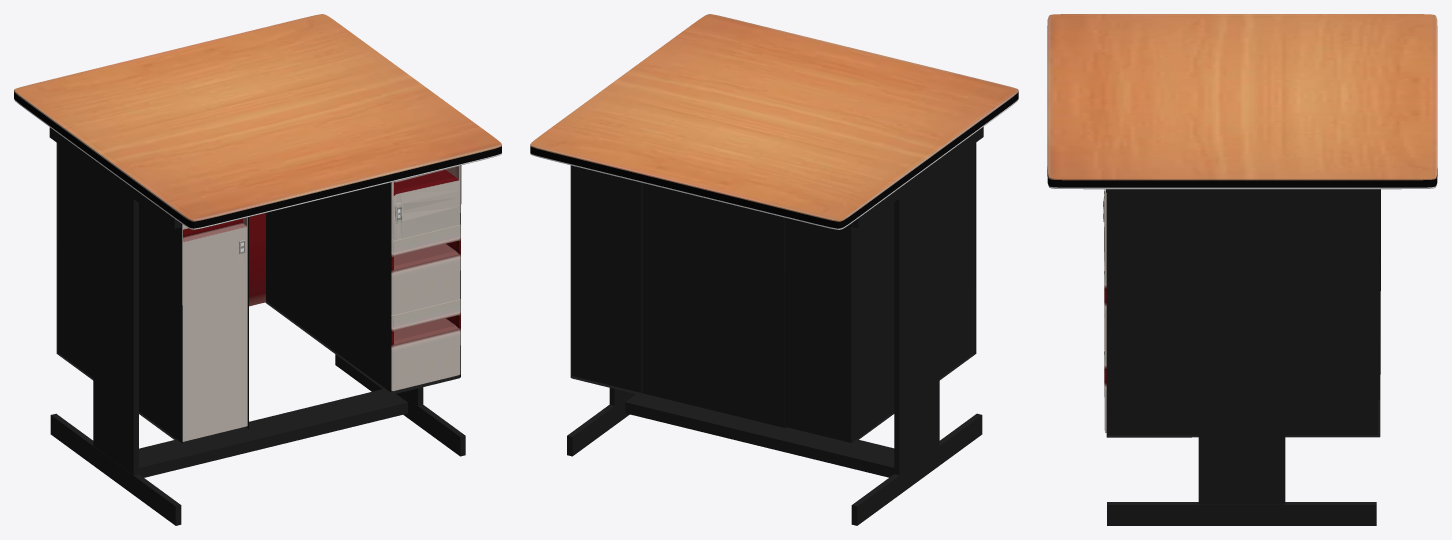
The model's file is sh-bsby-office-table.glb.
3 renders of one model, left to right at view 1: azimuth 30°, elevation 25°; view 2: azimuth 150°, elevation 25°; view 3: azimuth 270°, elevation 25°, orthographic. The views are drawn at different scales.
Parts seen in each view (by area): view 1: base_Cube.015, top_Cube, drawer.001_Cube.018; view 2: base_Cube.015, top_Cube, cabinetbase.001_Plane.002; view 3: base_Cube.015, top_Cube, drawer.001_Cube.018.
Part boxes in pixels (x1,y1,x2,y2): base_Cube.015: [49, 127, 465, 525]; top_Cube: [14, 14, 501, 229]; drawer.001_Cube.018: [182, 165, 460, 441]; base_Cube.015: [567, 127, 983, 525]; top_Cube: [530, 14, 1018, 229]; cabinetbase.001_Plane.002: [642, 183, 785, 427]; base_Cube.015: [1106, 189, 1380, 525]; top_Cube: [1047, 14, 1437, 189]; drawer.001_Cube.018: [1103, 189, 1106, 432].
Size of the model in its own units: 1 by 1 by 1.
3 materials, 2 textured.
